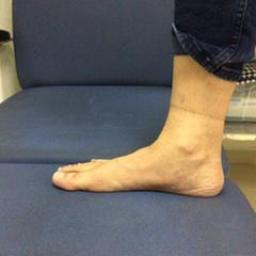Medial View -Right Foot-: (44, 93, 234, 204)
